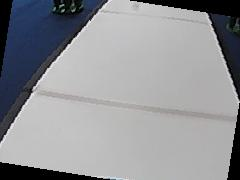Tracktor: (51, 0, 84, 18)
corn: (51, 0, 82, 17)
